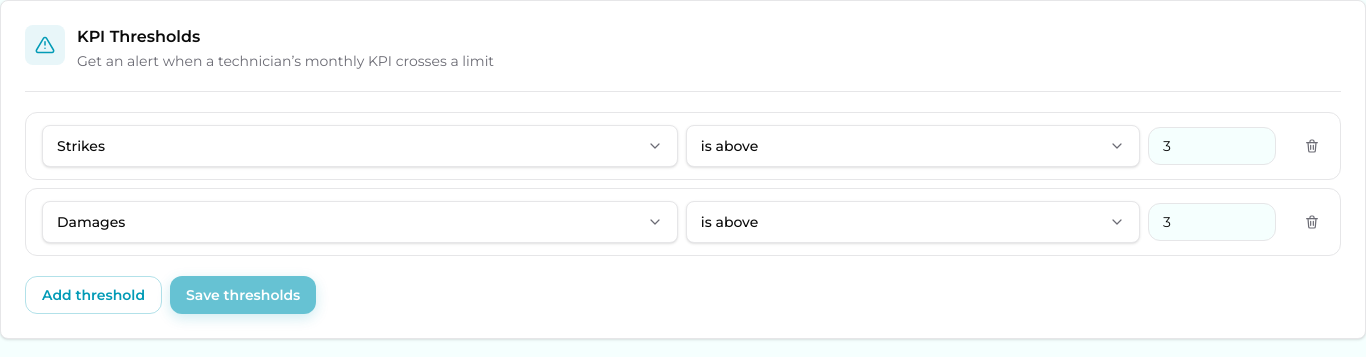
Test: KpiThresholdsPanel (GAP-025) › removes a row and shows the server’s reason for a rejected save
Click the button named "Remove threshold 2".
click(1312, 222)  # box [1300,210,1324,234]
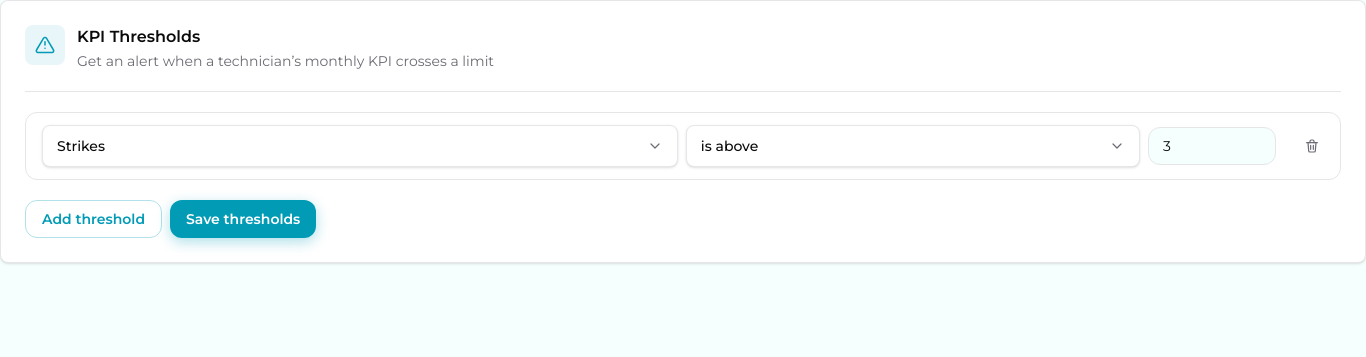
Click the button "Save thresholds".
click(243, 219)  # box [170,200,316,238]
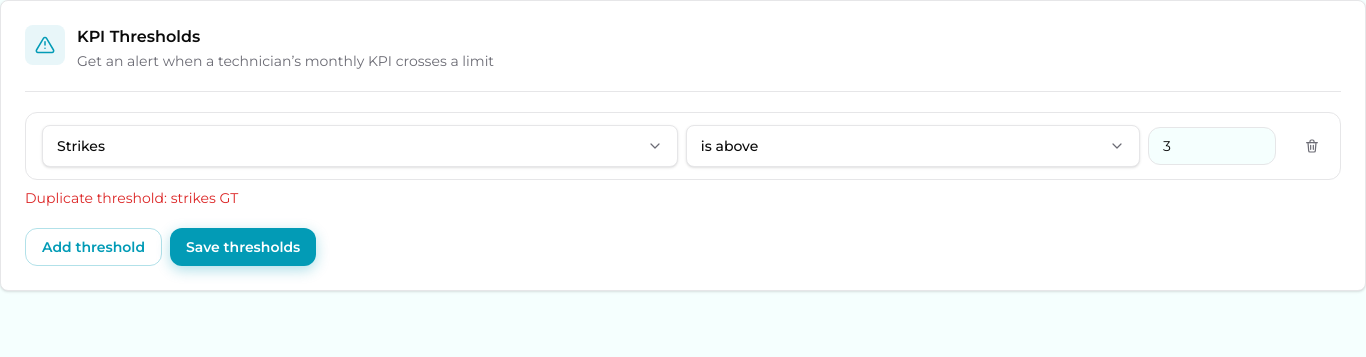
Result: the text "Duplicate threshold: strikes GT" is shown at [25,189,238,207]
Click the button named "Remove threshold 1".
click(1312, 146)  # box [1300,134,1324,158]
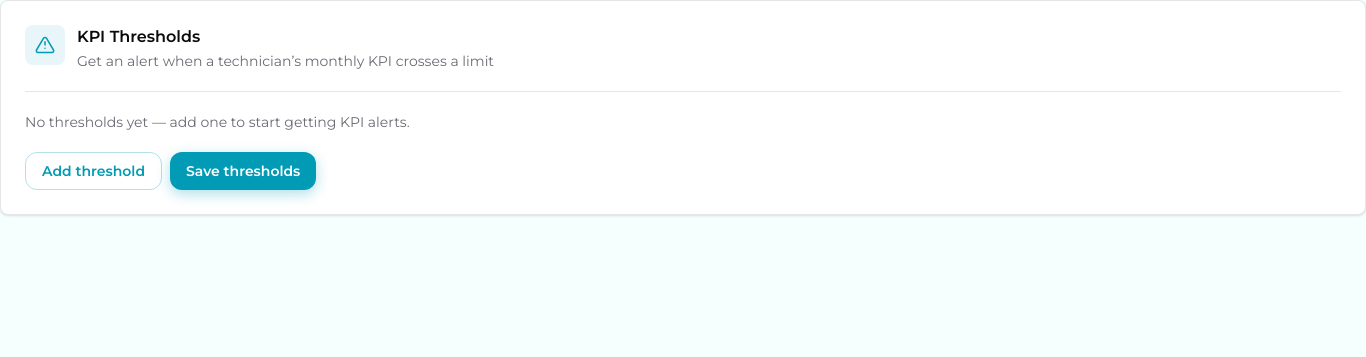
Result: the text "No thresholds yet — add one to start getting KPI alerts." is shown at [25,113,410,131]
